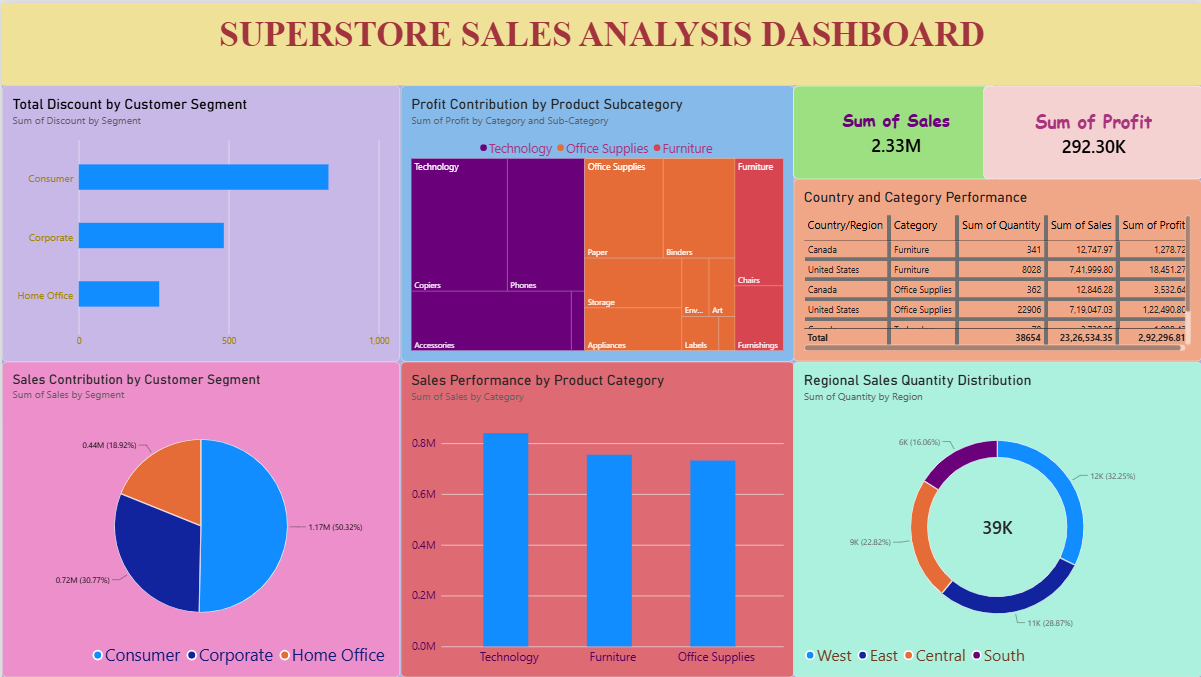

Layout of this report page (visuals, bound fields, positions):
{"tool":"powerbi","page":{"name":"Page 1","canvas":[1920,1080],"ordinal":0},"visuals":[{"type":"clusteredColumnChart","title":"Sales Performance by Product Category","fields":{"Category":["Orders.Category"],"Y":["Sum(Orders.Sales)"]},"box":[637,573.7,629.8,506.7],"z":2},{"type":"tableEx","title":"Country and Category Performance","fields":{"Values":["Orders.Country/Region","Orders.Category","Sum(Orders.Quantity)","Sum(Orders.Sales)","Sum(Orders.Profit)"]},"box":[1266.8,282.3,653.3,291.4],"z":3},{"type":"actionButton","box":[0,0,100,40],"z":4},{"type":"pieChart","title":"Sales Contribution by Customer Segment","fields":{"Category":["Orders.Segment"],"Y":["Sum(Orders.Sales)"]},"box":[0,573.7,637,506.7],"z":5},{"type":"textbox","box":[0,0,1920.1,132.1],"z":6},{"type":"donutChart","title":"Regional Sales Quantity Distribution","fields":{"Category":["Orders.Region"],"Y":["Sum(Orders.Quantity)"]},"box":[1266.8,573.7,653.3,506.7],"z":7},{"type":"barChart","title":"Total Discount by Customer Segment","fields":{"Category":["Orders.Segment"],"Y":["Sum(Orders.Discount)"]},"box":[0,132.1,637,441.6],"z":8},{"type":"treemap","title":"Profit Contribution by Product Subcategory","fields":{"Details":["Orders.Sub-Category"],"Group":["Orders.Category"],"Values":["Sum(Orders.Profit)"]},"box":[637,132.1,629.8,441.6],"z":9},{"type":"cardVisual","fields":{"Data":["Sum(Orders.Sales)"]},"box":[1266.8,132.1,327.5,150.2],"z":10},{"type":"cardVisual","fields":{"Data":["Sum(Orders.Profit)"]},"box":[1569,132,351,150],"z":11}]}

Visuals, with their boxes in screenshot pixels (x1, y1, x2, y2), scaled from the page's 1920x1080 canvas onto the 1201x677 screenshot:
"Sales Performance by Product Category" clusteredColumnChart: (x1=398, y1=360, x2=792, y2=676)
"Country and Category Performance" tableEx: (x1=792, y1=177, x2=1200, y2=360)
actionButton: (x1=0, y1=0, x2=63, y2=25)
"Sales Contribution by Customer Segment" pieChart: (x1=0, y1=360, x2=398, y2=676)
textbox: (x1=0, y1=0, x2=1200, y2=83)
"Regional Sales Quantity Distribution" donutChart: (x1=792, y1=360, x2=1200, y2=676)
"Total Discount by Customer Segment" barChart: (x1=0, y1=83, x2=398, y2=360)
"Profit Contribution by Product Subcategory" treemap: (x1=398, y1=83, x2=792, y2=360)
cardVisual - Sum(Orders.Sales): (x1=792, y1=83, x2=997, y2=177)
cardVisual - Sum(Orders.Profit): (x1=981, y1=83, x2=1200, y2=177)
